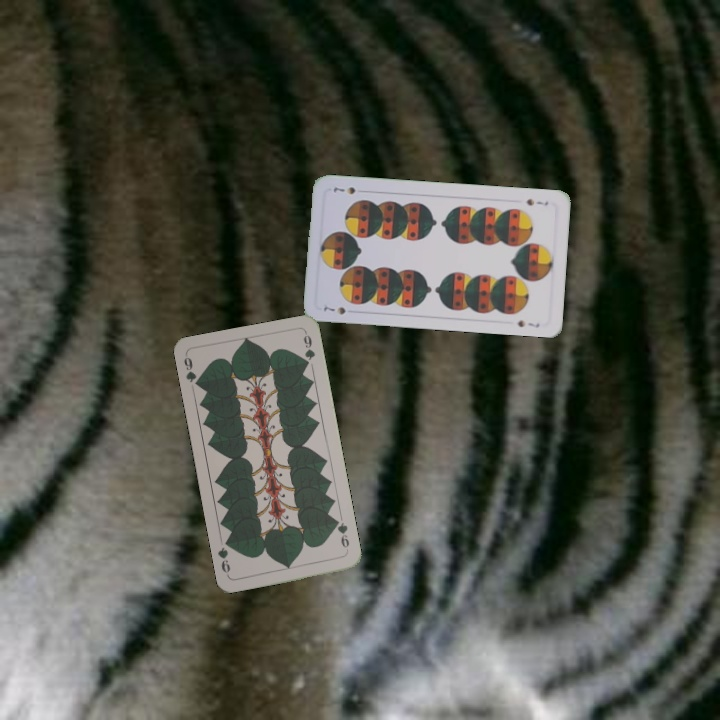G9: (180, 352, 203, 390), (331, 516, 352, 555)
S7: (319, 302, 348, 317), (522, 195, 550, 208)
